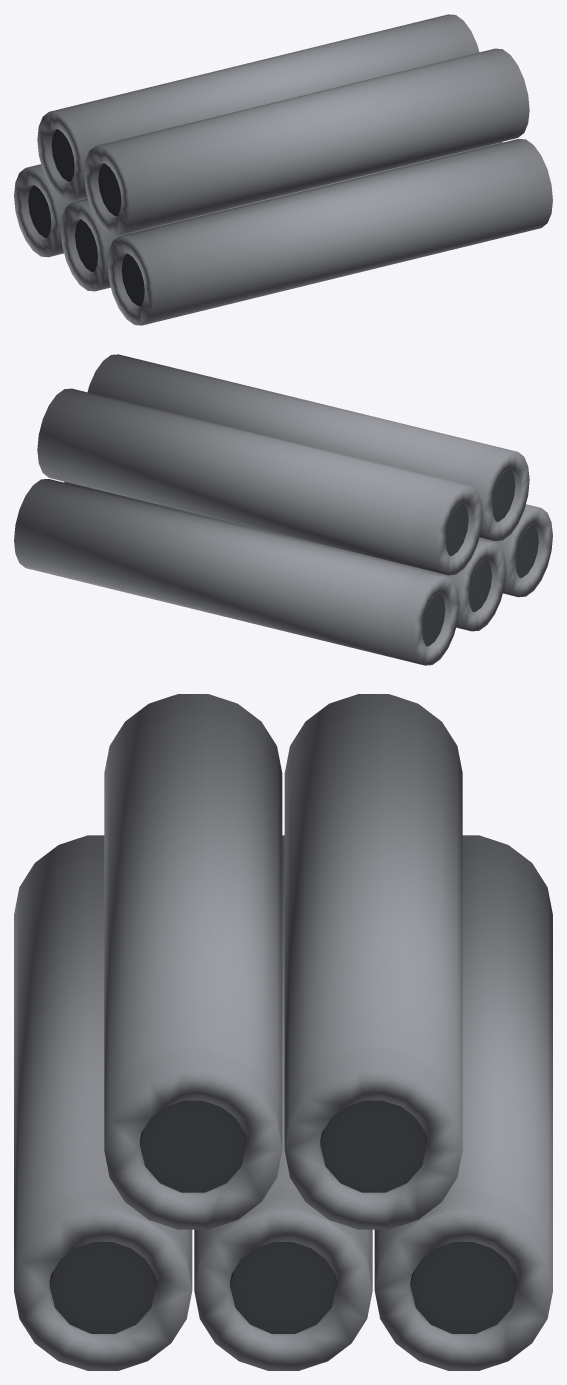
Rendered from pipe-stack.fbx.
3 renders of one model, top to bottom at view 1: azimuth 30°, elevation 25°; view 2: azimuth 150°, elevation 25°; view 3: azimuth 270°, elevation 25°, orthographic. The views are drawn at different scales.
Visible parts, largest first — view 1: pipe-stack; view 2: pipe-stack; view 3: pipe-stack.
Boxes of the visible parts, x1,y1,x2,y2 form: pipe-stack: (14,14,552,325); pipe-stack: (14,354,552,665); pipe-stack: (14,694,552,1370).
Size of the model in its own units: 840 by 312 by 508.
Materials: 1 (1 with a texture image).
